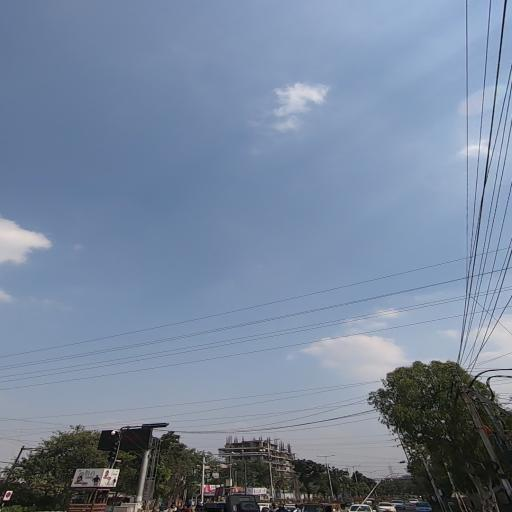Street_light: (312, 450, 323, 461), (323, 453, 336, 458)
